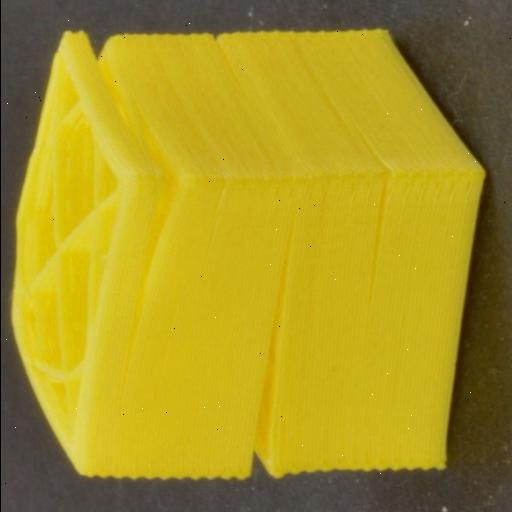cracks: (111, 94, 200, 301), (231, 211, 299, 479), (344, 122, 402, 301), (68, 32, 132, 100), (202, 31, 245, 83)
